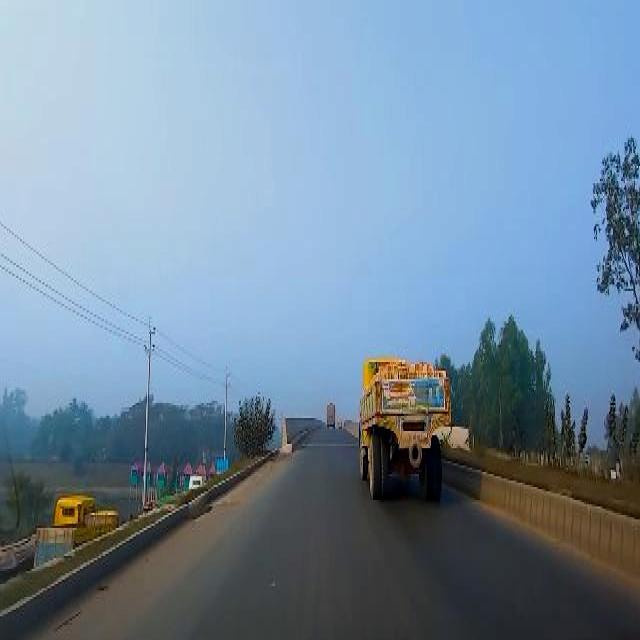TRUCK: (356, 354, 451, 500)
